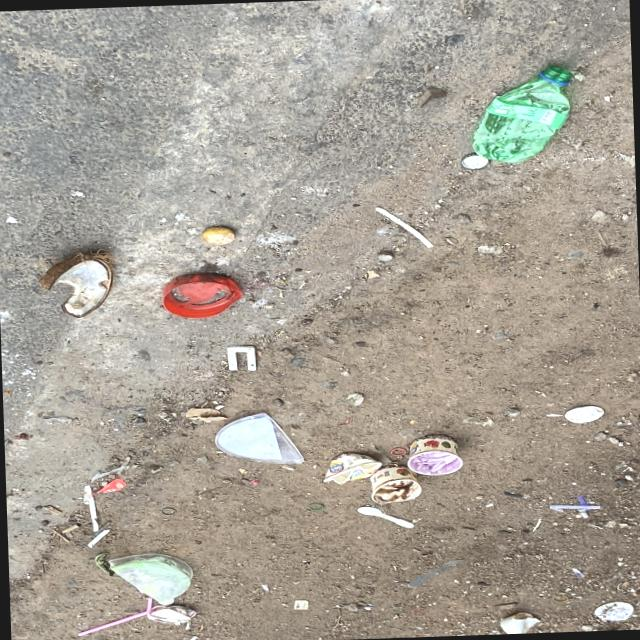chai_nhua: (474, 65, 574, 162)
hop_nhua: (408, 435, 463, 476), (370, 465, 422, 504), (324, 453, 382, 485), (501, 613, 540, 634)
ly_hop_giay: (146, 605, 196, 626)
nhua: (162, 273, 243, 318), (357, 506, 414, 528)
ong_hut_nhua: (77, 598, 152, 637)
rac_huu_co: (38, 251, 113, 317)
